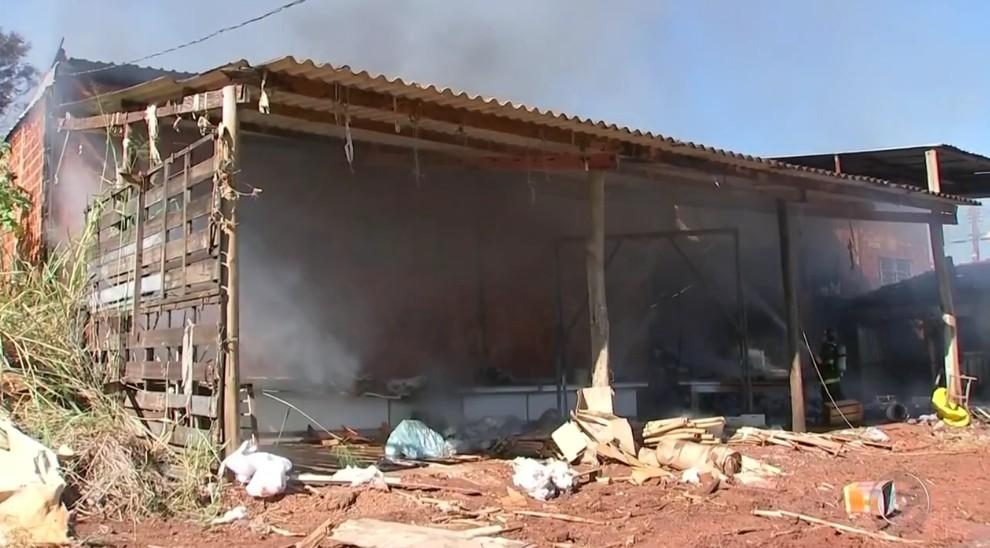smoke: (243, 154, 370, 379), (391, 193, 563, 340)
